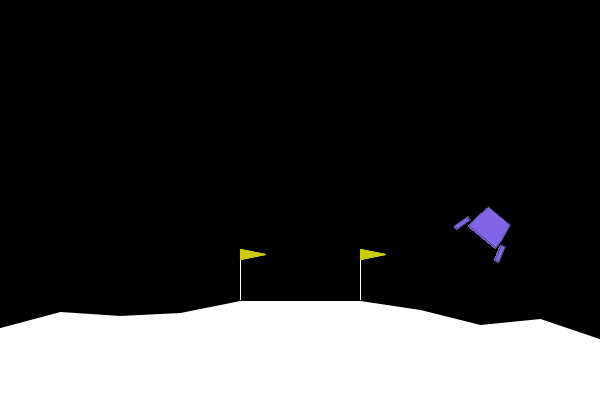lander: (452, 196, 524, 265)
